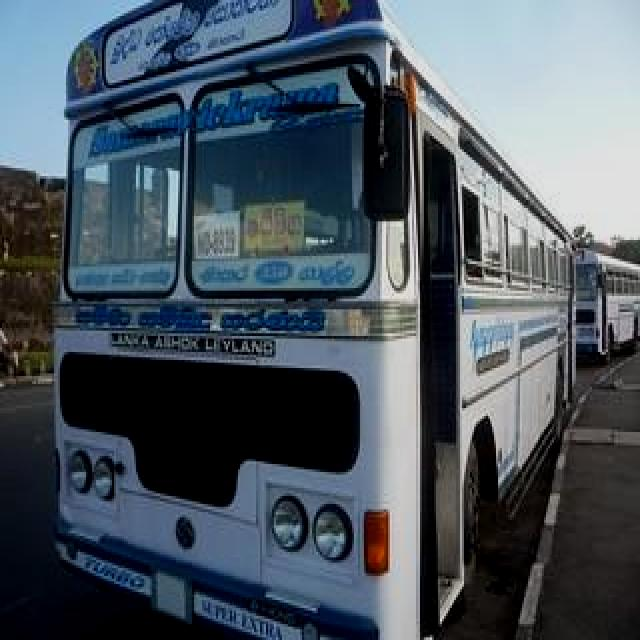Bus: (84, 44, 559, 582), (572, 246, 636, 362)
